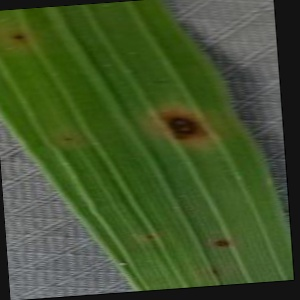Bacterial_Leaf_Blight: (145, 98, 220, 157), (145, 73, 176, 88), (206, 235, 233, 250), (8, 29, 29, 43), (140, 230, 161, 244), (206, 266, 224, 280), (58, 132, 77, 145)
